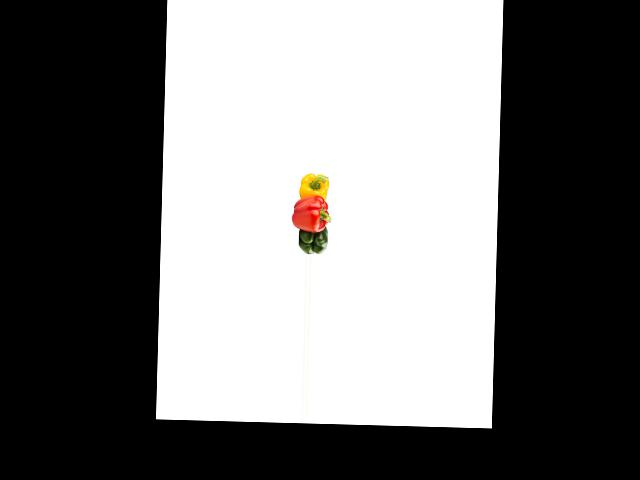bell_pepper: (293, 171, 332, 202)
